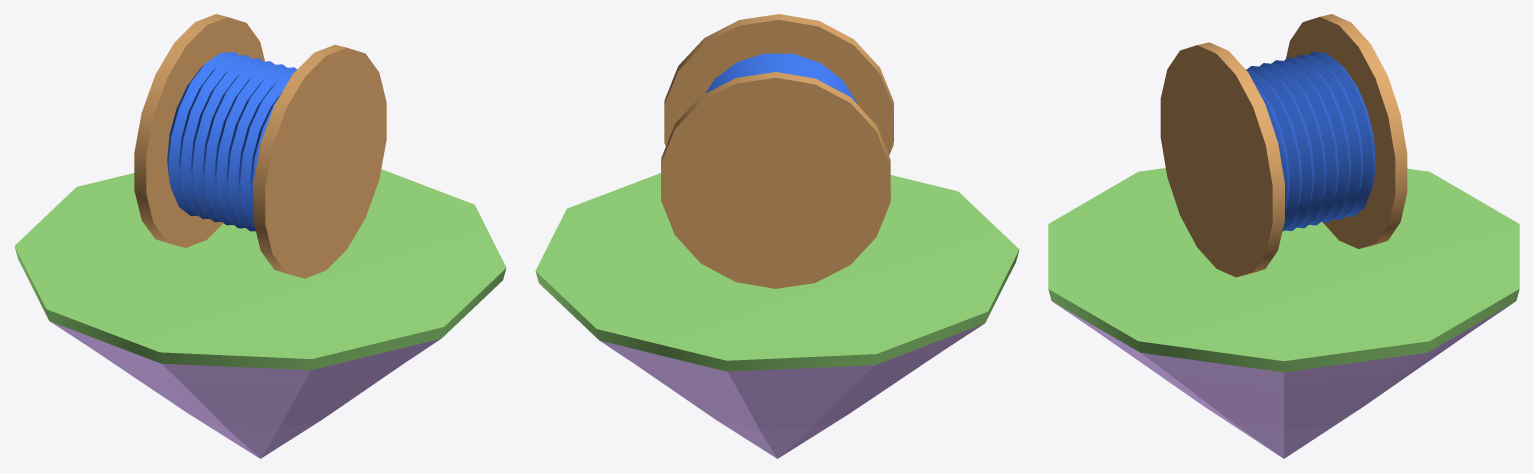
Rendered from deco_spool.glb.
3 renders of one model, left to right at view 1: azimuth 30°, elevation 25°; view 2: azimuth 150°, elevation 25°; view 3: azimuth 270°, elevation 25°, orthographic.
Parts seen in each view (by area): view 1: deco_spool; view 2: deco_spool; view 3: deco_spool.
Boxes of the visible parts, box(x1,y1,x2,y2) form: deco_spool: box(14, 14, 506, 458); deco_spool: box(535, 14, 1019, 458); deco_spool: box(1048, 14, 1519, 458).
Size of the model in its own units: 7.1 by 6.65 by 6.75.
